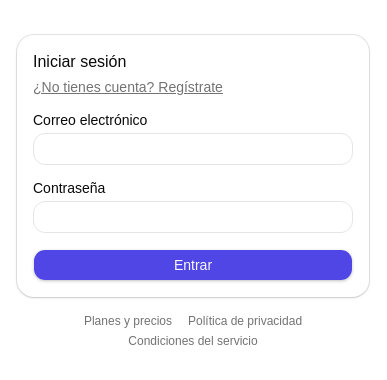
Test case: PaginaLogin › con credenciales incorrectas, muestra el error y no navega
This screenshot has width=387, height=380.
Step 1. Type "ana@example.com" into the field labelled "Correo electrónico" → x=193, y=149, box [33,133,353,165]
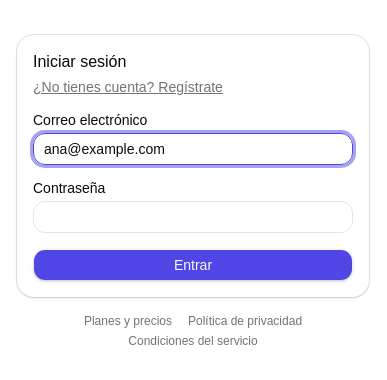
Step 2. Type "contrasena-mala" into the password field labelled "Contraseña" → x=193, y=217, box [33,201,353,233]
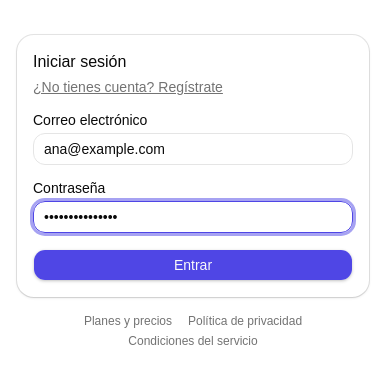
Step 3. Click the button "Entrar" → x=193, y=265, box [33,249,353,281]
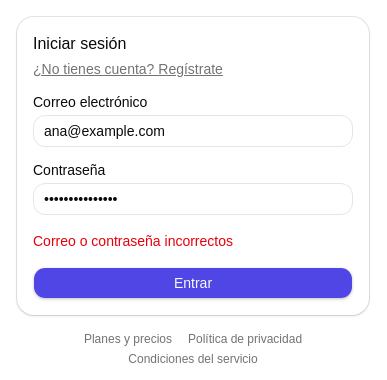
Expected: the text "Correo o contraseña incorrectos" is shown, [33,233,233,249]
